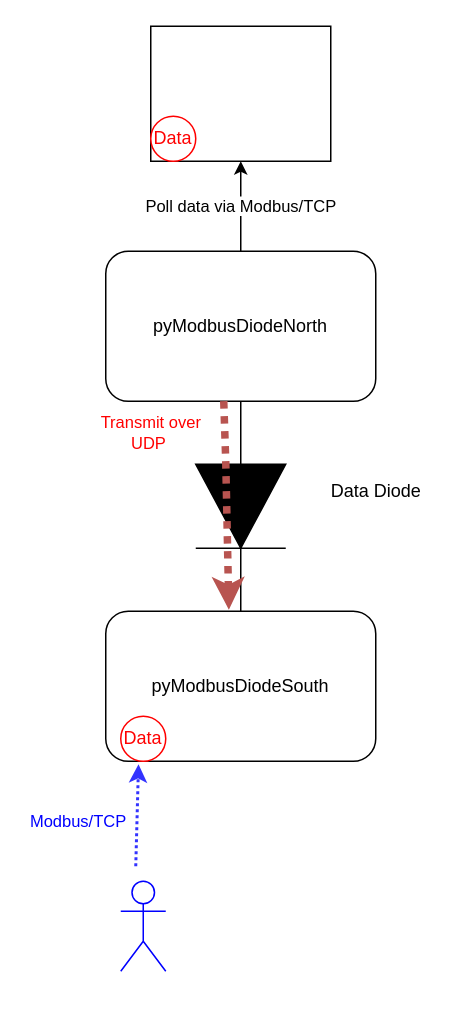
This 462x1029 diagram has some shape labels left out. The box of each missing label's shape, as (x1, y1, x2, y2) in pixels:
Modbus/TCP Data Source e.g. PLC: (149, 25, 331, 161)
User: (119, 880, 166, 971)
